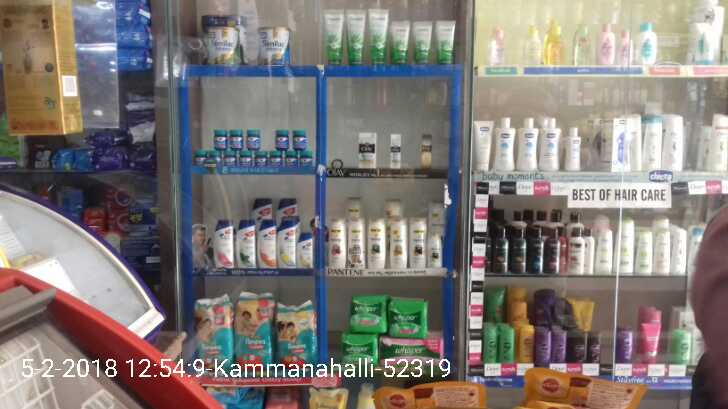beauty: (388, 214, 407, 272), (407, 216, 426, 272), (213, 220, 233, 270), (277, 219, 297, 267), (368, 216, 385, 269), (331, 219, 349, 267), (356, 131, 378, 170), (258, 218, 275, 268), (237, 220, 255, 266), (349, 219, 364, 269), (297, 231, 314, 266), (421, 131, 432, 167), (390, 133, 400, 171)
pharmacy: (186, 297, 232, 366), (233, 295, 274, 369), (277, 302, 318, 367), (378, 335, 446, 362), (389, 295, 425, 336), (351, 297, 387, 334), (340, 332, 377, 363), (292, 130, 307, 151), (228, 129, 243, 149), (246, 130, 260, 151), (214, 128, 227, 149), (276, 128, 288, 149)
